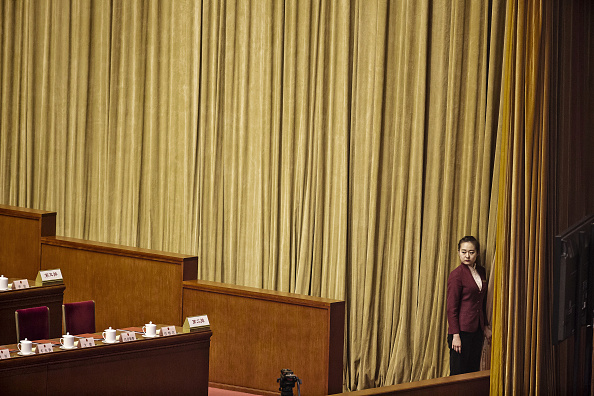em pe: (435, 236, 489, 379)
